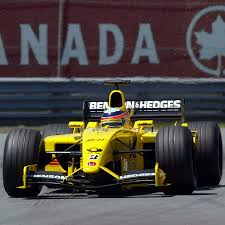f1_car: (2, 74, 225, 203)
